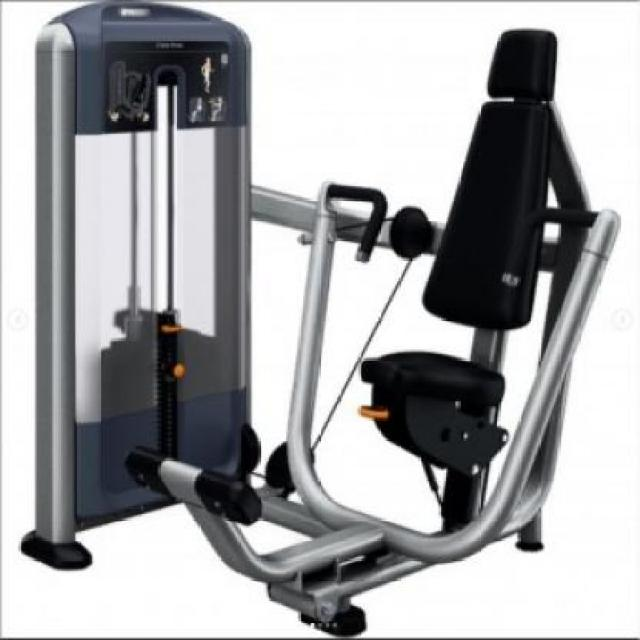Chest Press machine: (15, 1, 629, 640)
